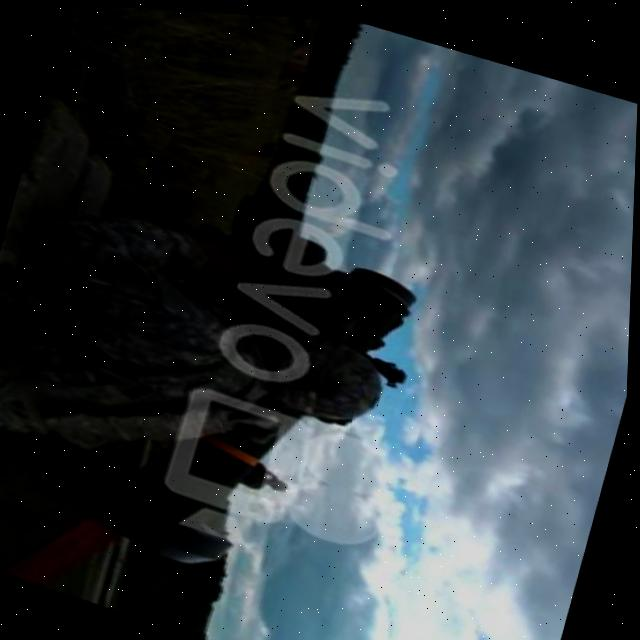rocket: (69, 344, 305, 584)
